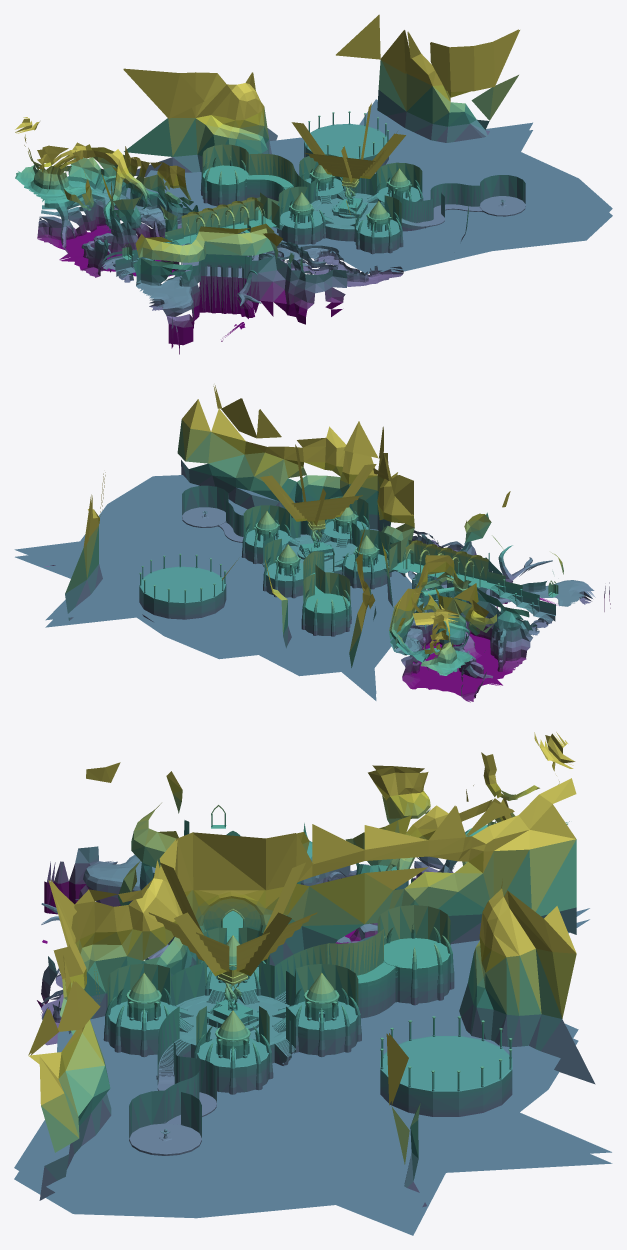
The picture shows the model from 3 angles, top to bottom: view 1: azimuth 30°, elevation 25°; view 2: azimuth 150°, elevation 25°; view 3: azimuth 270°, elevation 25°; orthographic projection. The views are drawn at different scales.
Parts seen in each view (by area): view 1: walls, floors, water; view 2: walls, water, floors; view 3: walls, water, floors.
Part boxes in pixels (box(x1,y1,x2,y2)): walls: box(15, 14, 525, 354); floors: box(15, 53, 525, 341); water: box(126, 99, 612, 273); walls: box(50, 385, 610, 697); water: box(14, 475, 411, 700); floors: box(44, 399, 595, 702); walls: box(28, 733, 576, 1200); water: box(14, 908, 612, 1235); floors: box(28, 732, 595, 1207).
Size of the model in its own units: 432 by 123 by 298.
